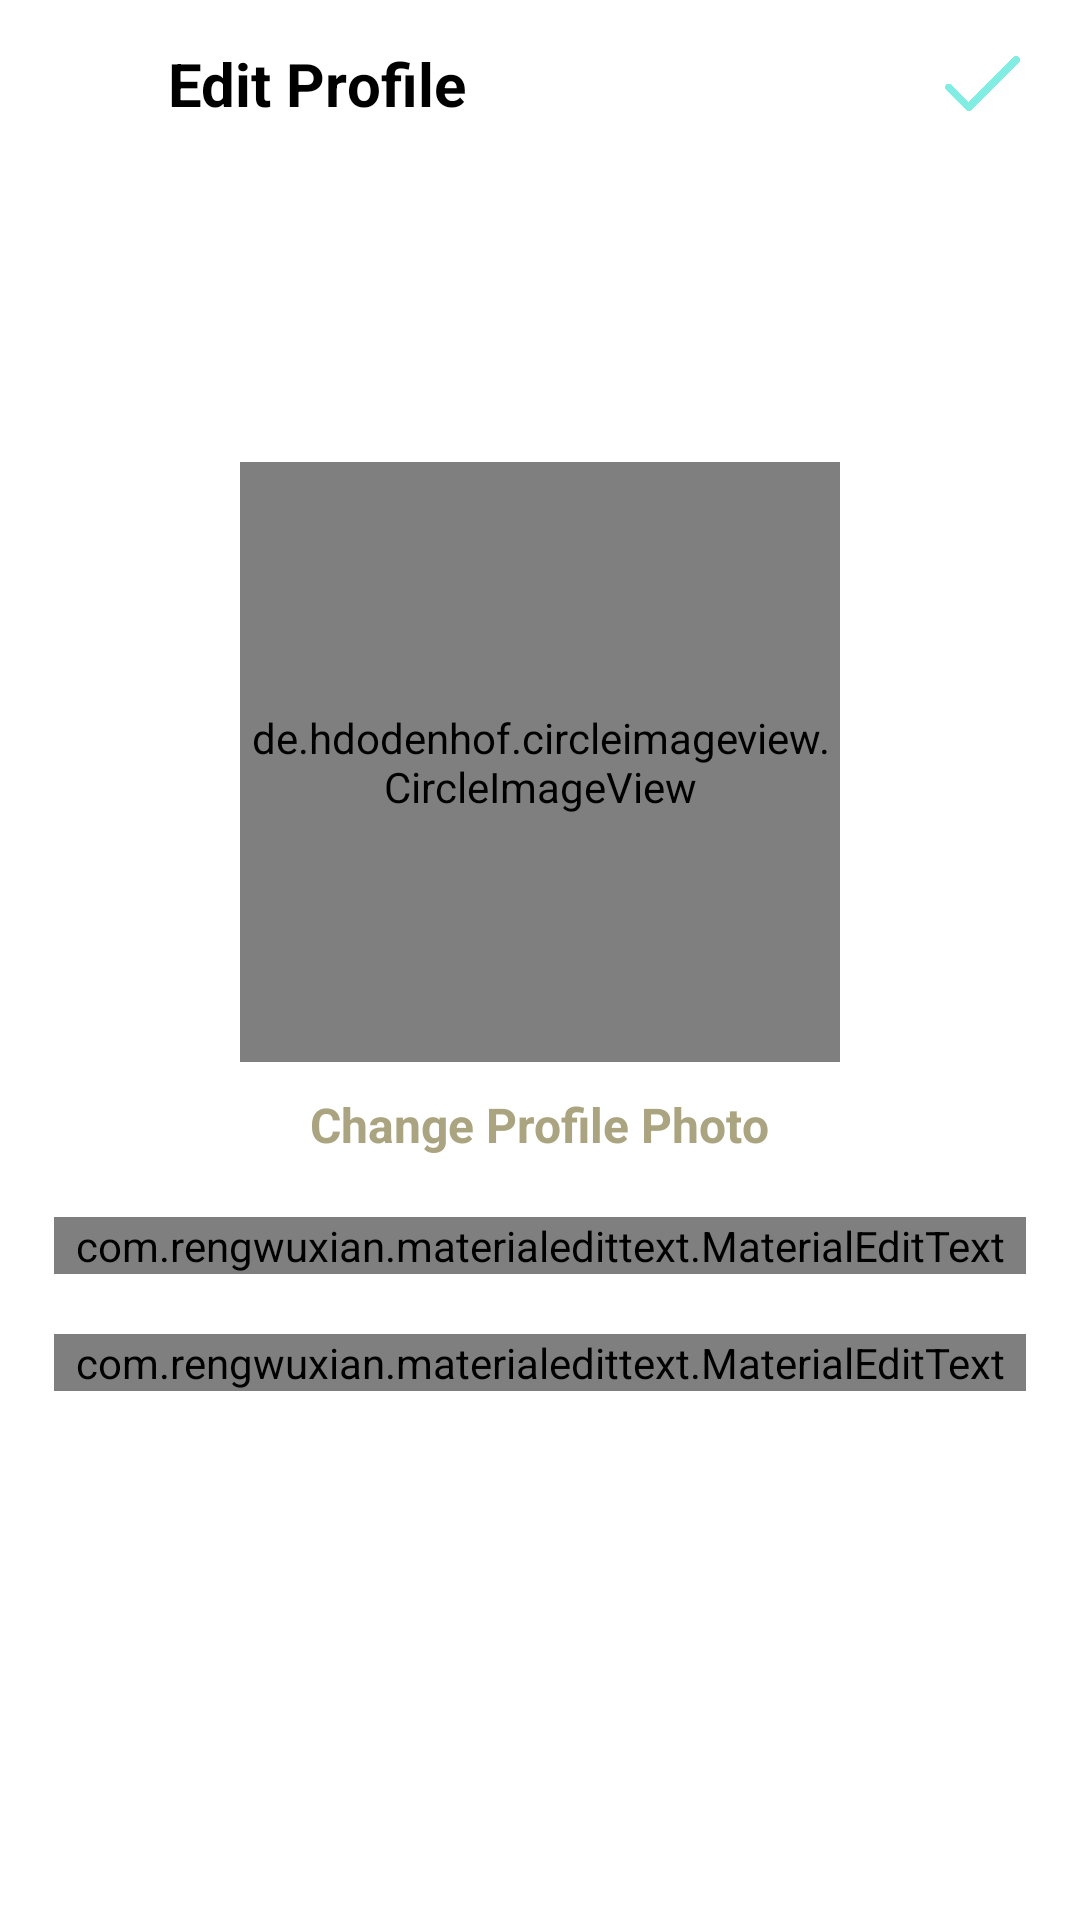

Point at icon controls on the screen. Image size 1080 x 1920, points as [x,y].
tick: [982,83]
